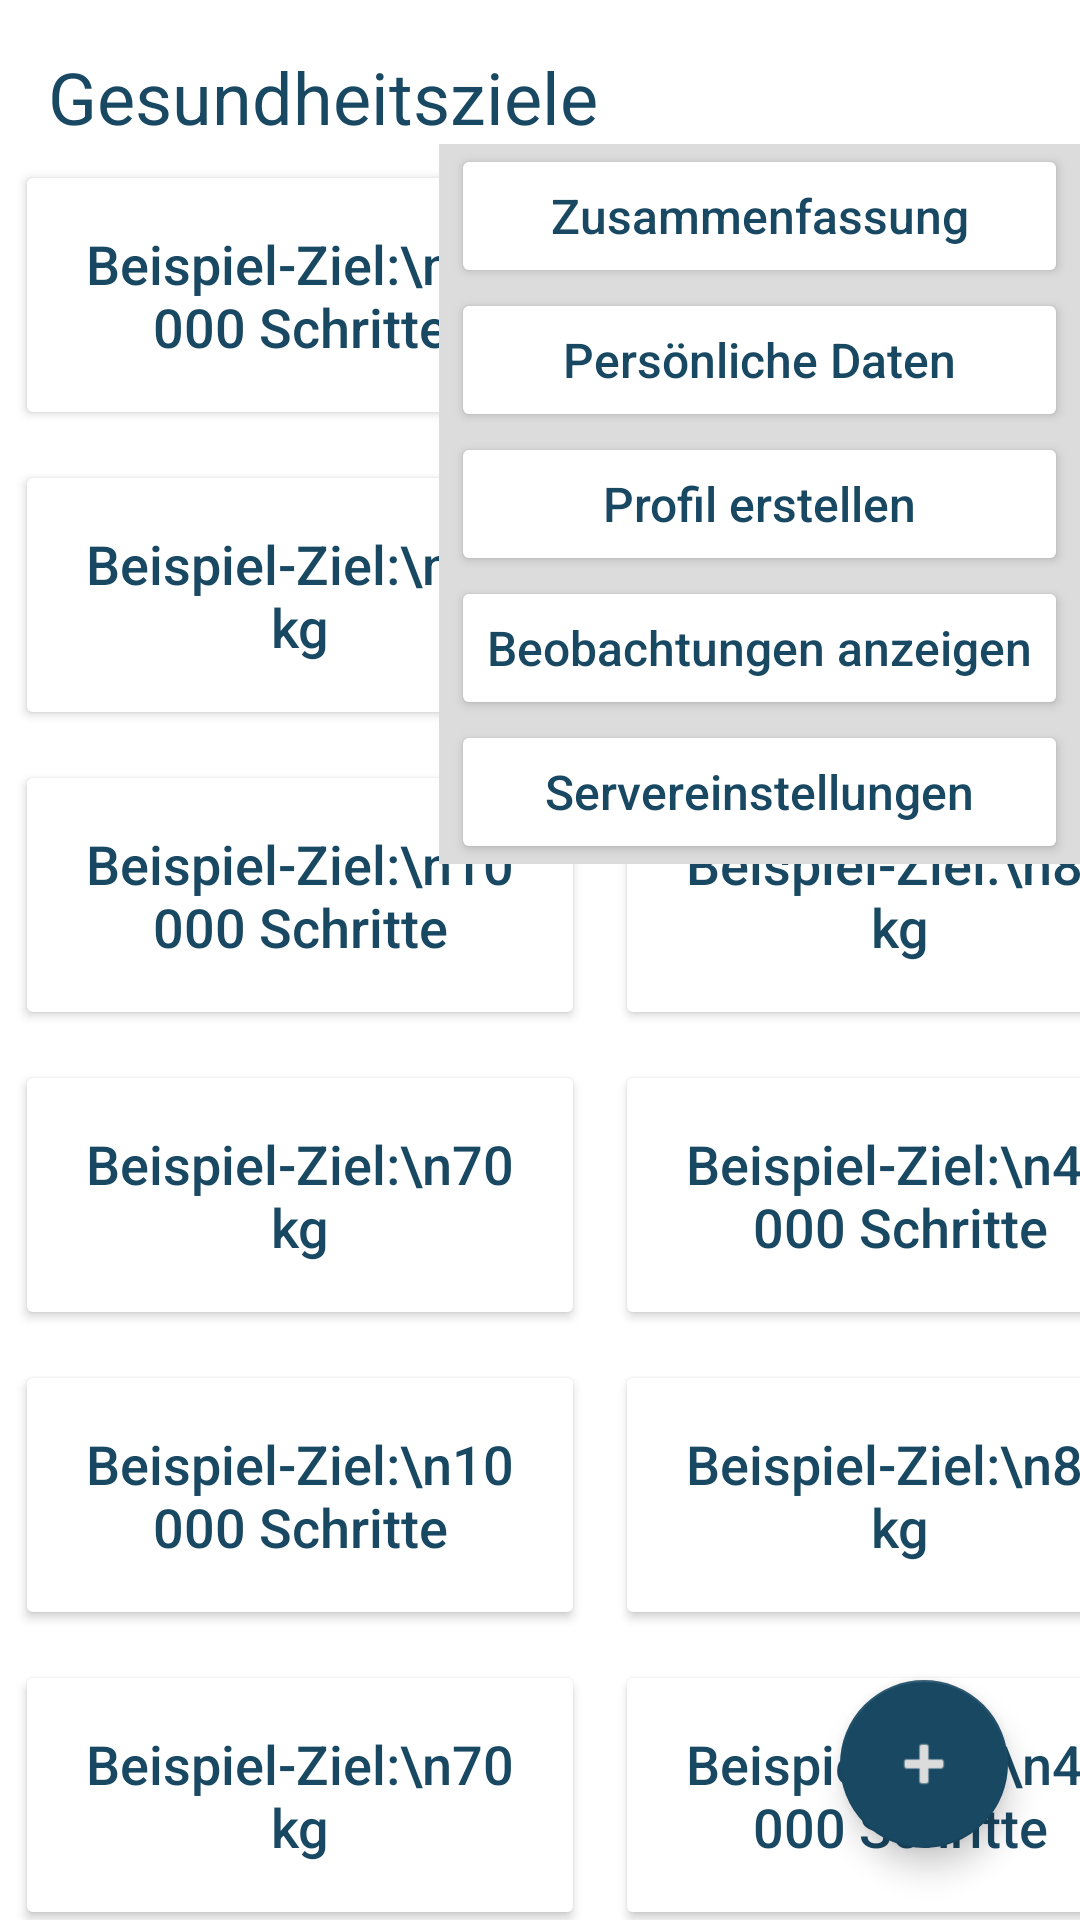

Named icons in this screenshot (1080*1920) and their centers, (x=x, y=y):
Neues Gesundheitsziel erstellen: (x=924, y=1764)
